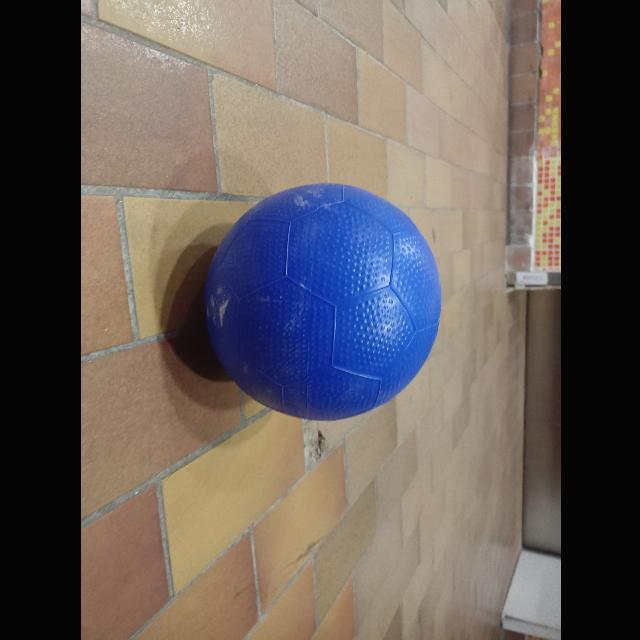B: (192, 174, 440, 424)
